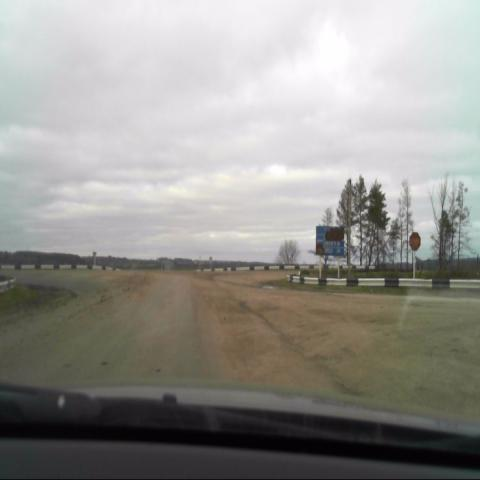2_5: (408, 231, 423, 254)
